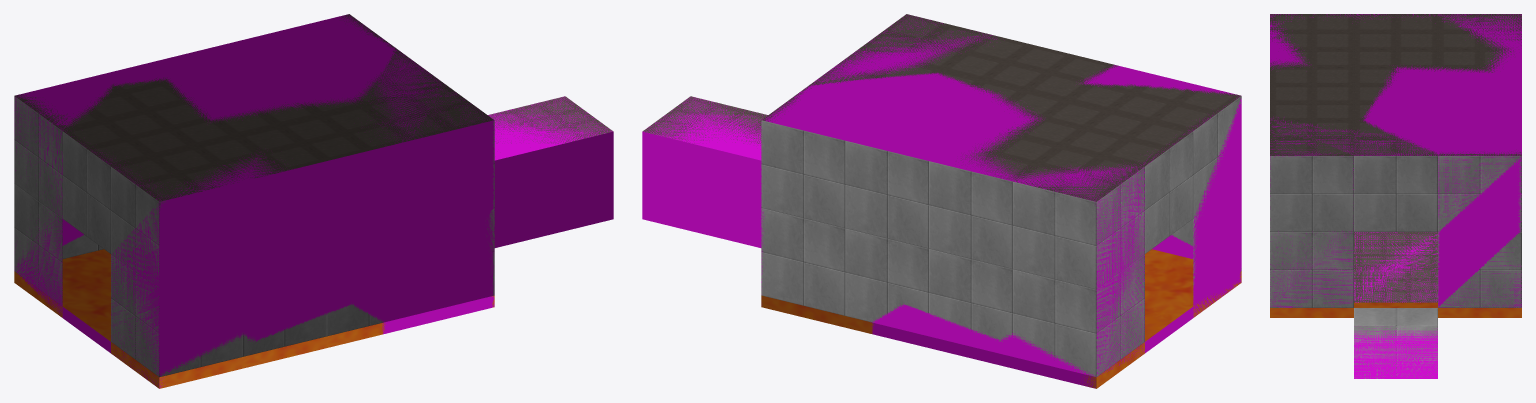
The model's file is mint_lava_room.fbx.
3 renders of one model, left to right at view 1: azimuth 30°, elevation 25°; view 2: azimuth 150°, elevation 25°; view 3: azimuth 270°, elevation 25°, orthographic. The views are drawn at different scales.
Visible parts, largest first — view 1: wall (×2), moltenlava, floorbase; view 2: wall (×2), moltenlava, floorbase; view 3: wall (×2), moltenlava_hall, floor36, moltenlava.
Part boxes in pixels (x1,y1,x2,y2): wall (×2): [14, 14, 613, 388]; moltenlava: [62, 249, 110, 341]; floorbase: [62, 307, 110, 353]; wall (×2): [642, 14, 1241, 388]; moltenlava: [1145, 249, 1193, 341]; floorbase: [1145, 307, 1193, 353]; wall (×2): [1270, 14, 1521, 317]; moltenlava_hall: [1354, 308, 1437, 378]; floor36: [1354, 328, 1437, 378]; moltenlava: [1354, 302, 1437, 307].
Bounding box in the file's own units: 90 × 32 × 45.
